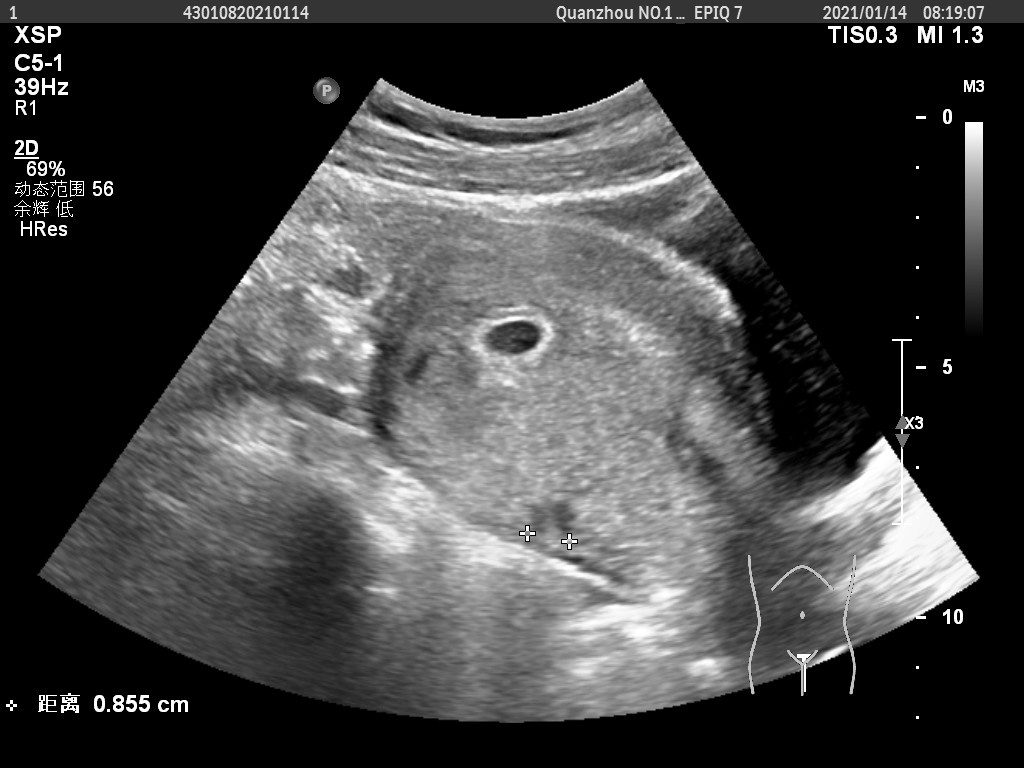肌瘤: (533, 507, 571, 537)
